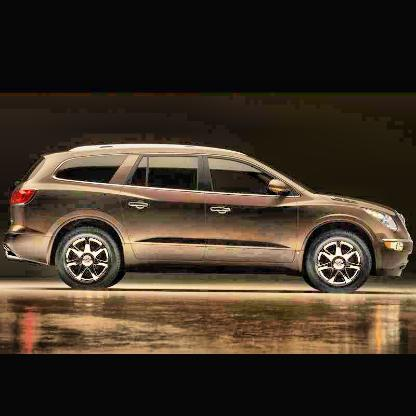Buick Enclave SUV 2012: (4, 141, 415, 293)
